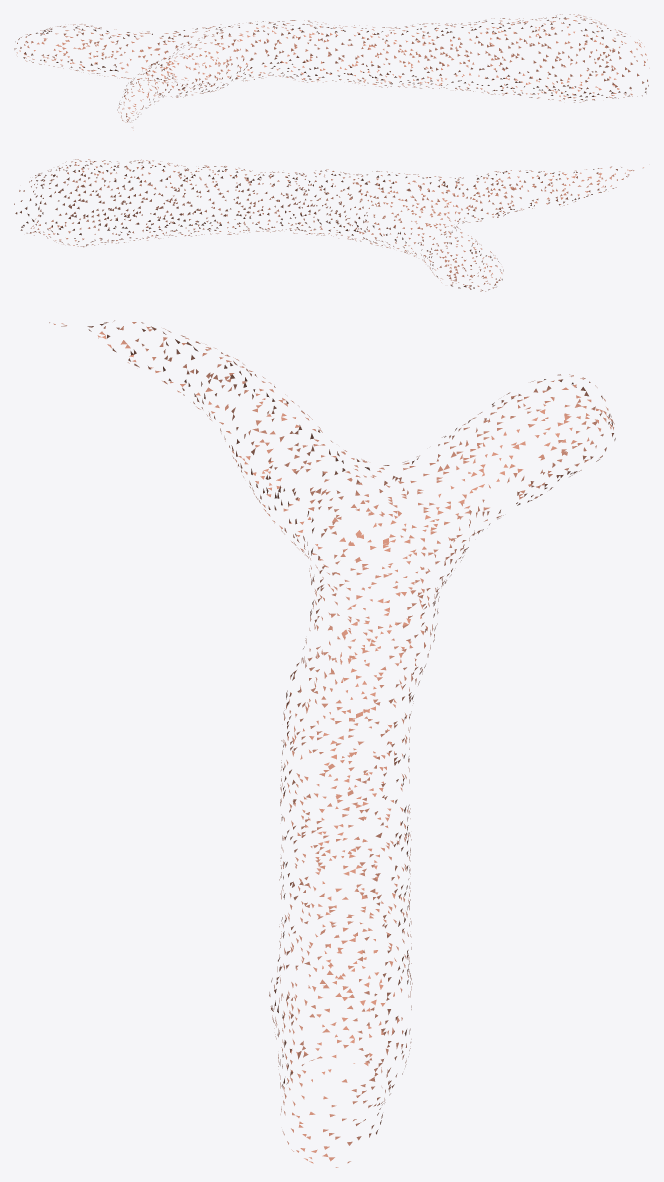
Rendered from morph_003.glb.
The picture shows the model from 3 angles, top to bottom: view 1: azimuth 30°, elevation 25°; view 2: azimuth 150°, elevation 25°; view 3: azimuth 270°, elevation 25°; orthographic projection. The views are drawn at different scales.
Size of the model in its own units: 143 by 39.88 by 63.35.
